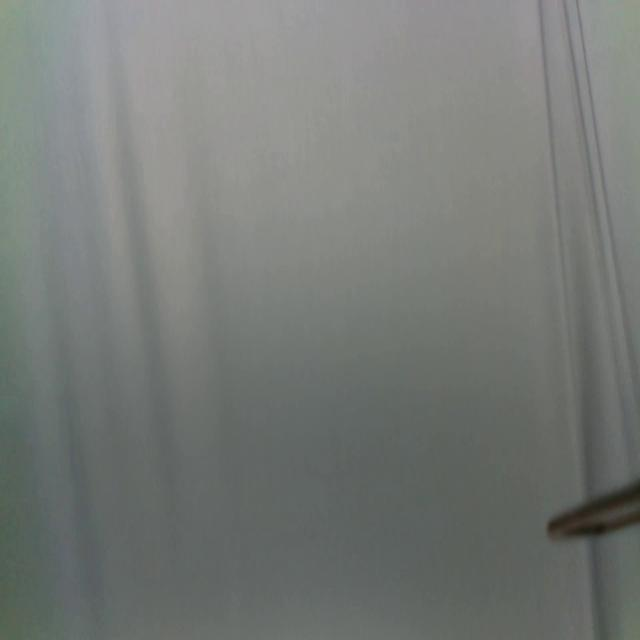crease: (564, 0, 639, 405)
